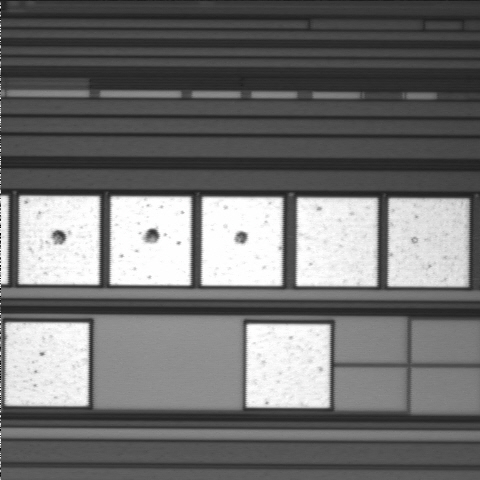pad: (19, 196, 100, 285), (110, 196, 191, 285), (202, 197, 283, 286), (388, 198, 469, 287), (296, 198, 377, 286), (5, 322, 89, 406), (246, 324, 330, 408)
